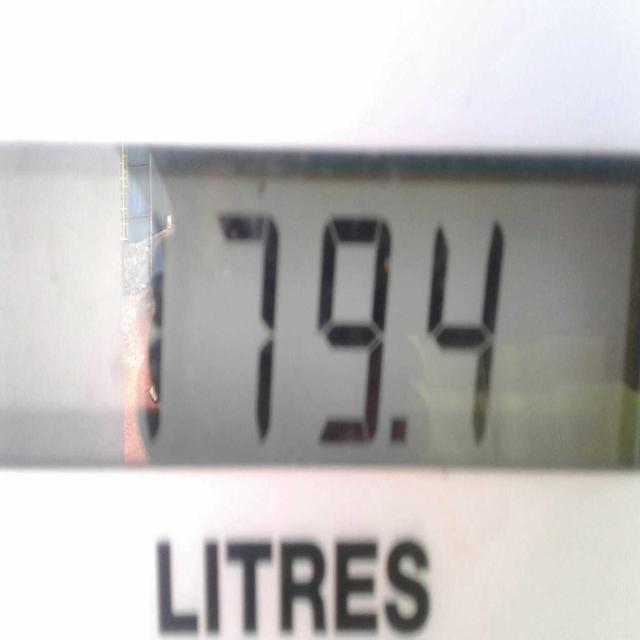.: (376, 398, 417, 465)
1: (132, 198, 193, 461)
4: (406, 207, 523, 451)
7: (203, 192, 290, 448)
9: (297, 197, 393, 461)
